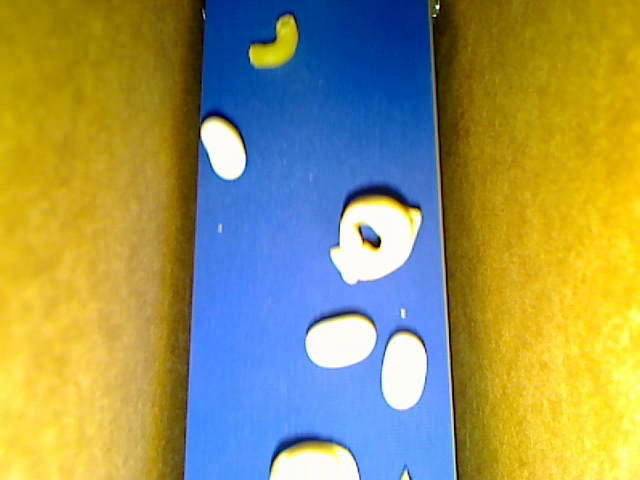elbow: (247, 14, 299, 67)
tortellini: (329, 196, 422, 284)
